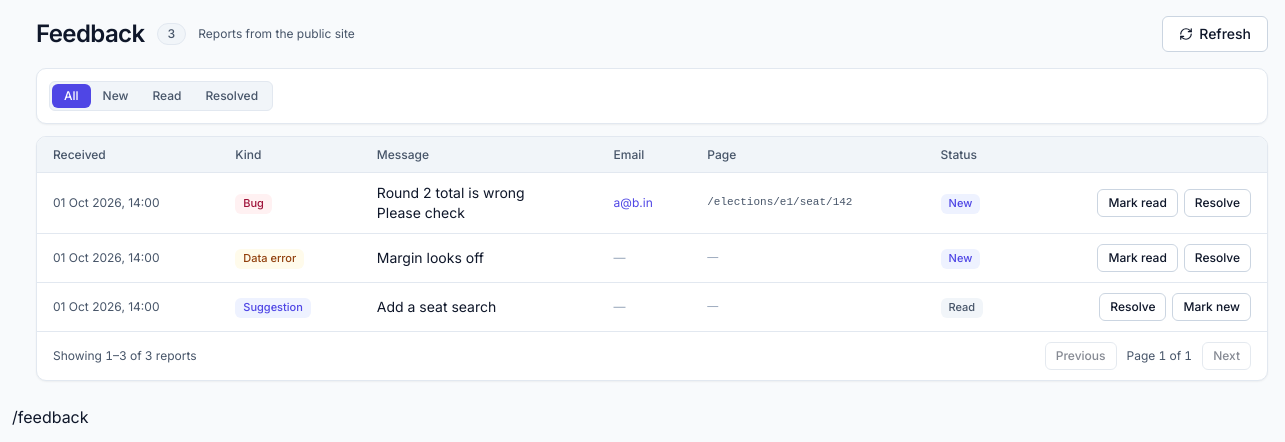
Test: Feedback page › status chips filter on the server; a stale stored filter starts on All
The width and height of the screenshot is (1285, 442).
Expected: the text "Add a seat search" is shown, [377,298,496,315]
Step 1. Click the button "New" → (116, 96), box [91,84,140,108]
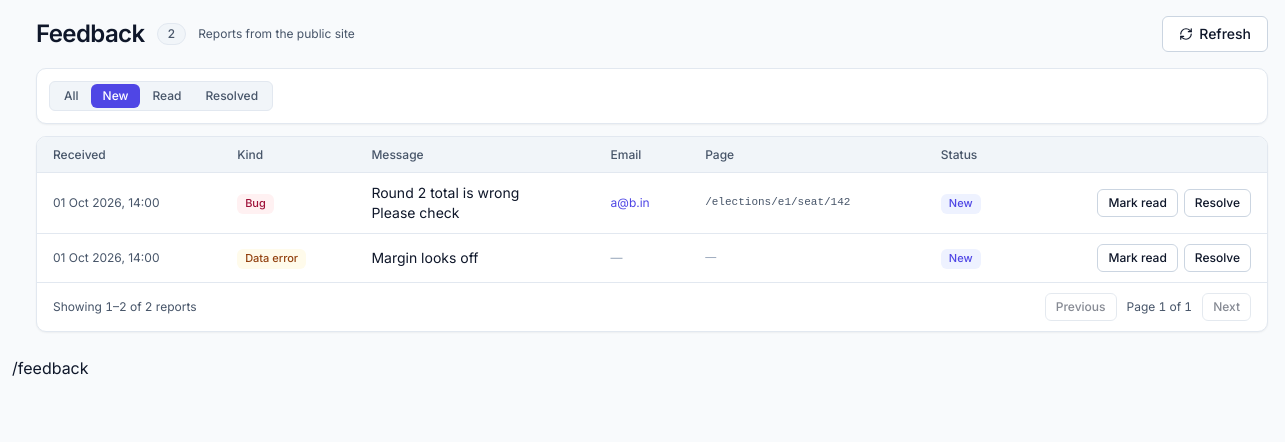
Now the text "Add a seat search" is gone
